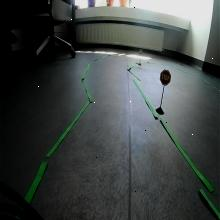stop: (160, 68, 171, 86)
